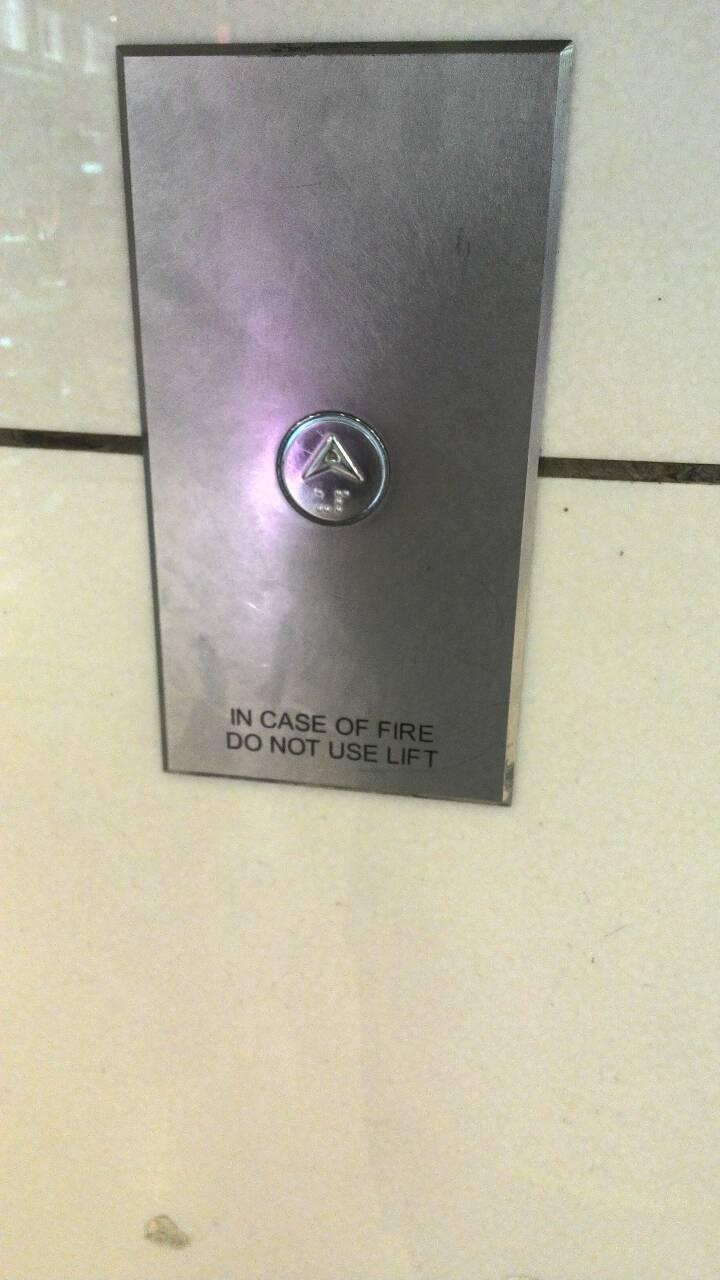up: (273, 405, 392, 529)
